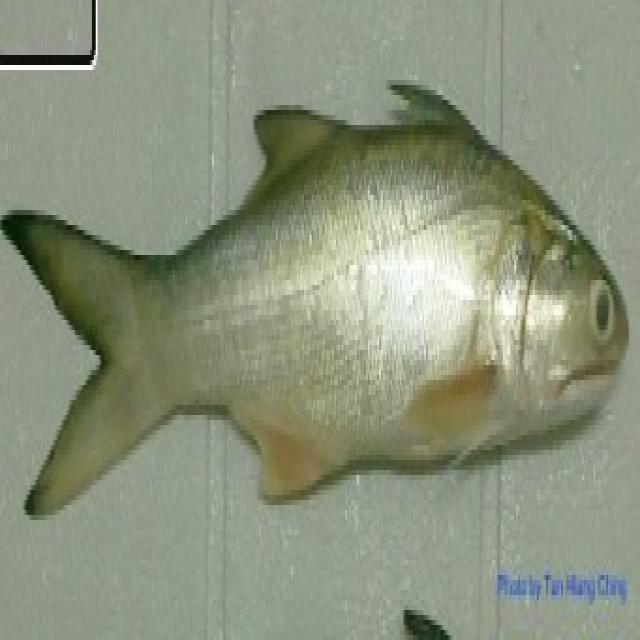Fourfinger-Threadfin: (0, 5, 634, 545)
